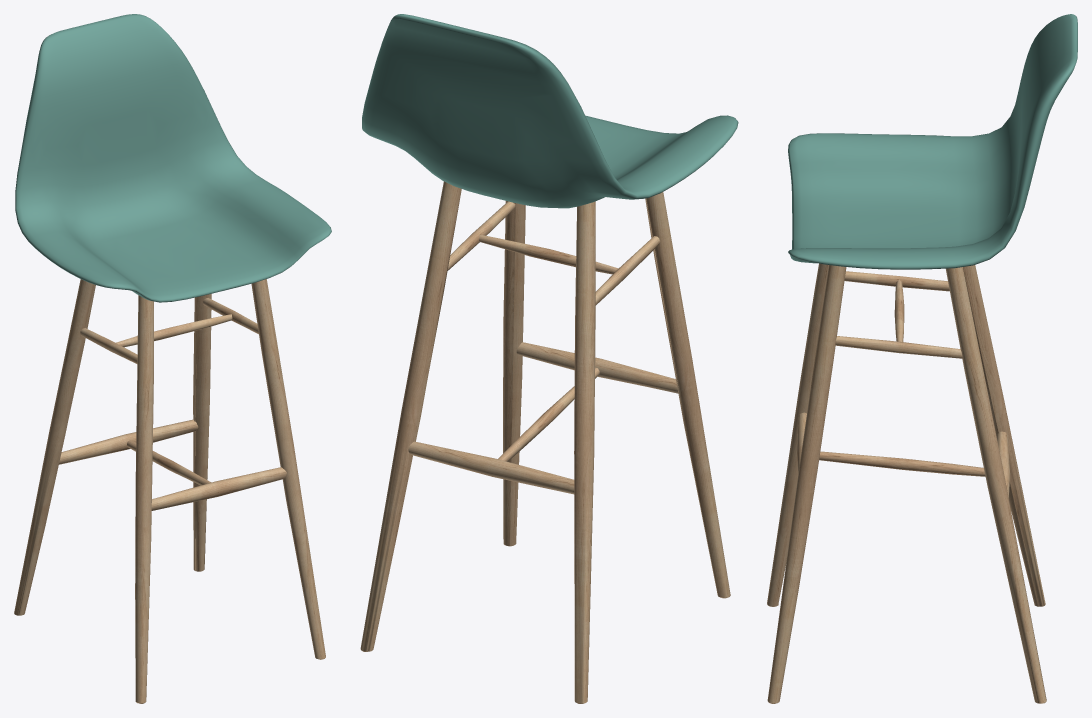
File: Chair 4.FBX
3 renders of one model, left to right at view 1: azimuth 30°, elevation 25°; view 2: azimuth 150°, elevation 25°; view 3: azimuth 270°, elevation 25°, orthographic. The views are drawn at different scales.
Visible parts, largest first — view 1: chair 4; view 2: chair 4; view 3: chair 4.
Part boxes in pixels (<box>): chair 4: <box>14,14,331,703</box>; chair 4: <box>360,14,738,703</box>; chair 4: <box>767,14,1077,703</box>.
Size of the model in its own units: 44.35 by 95.95 by 43.92.
2 materials, 2 textured.
